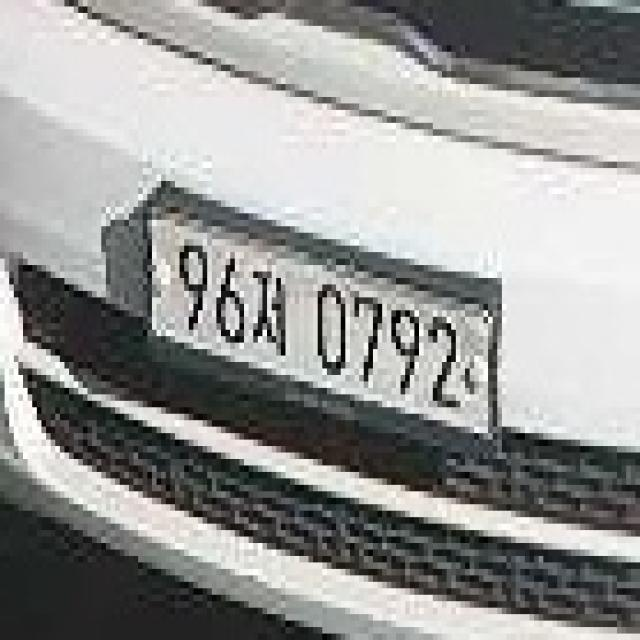plat: (139, 189, 502, 449)
